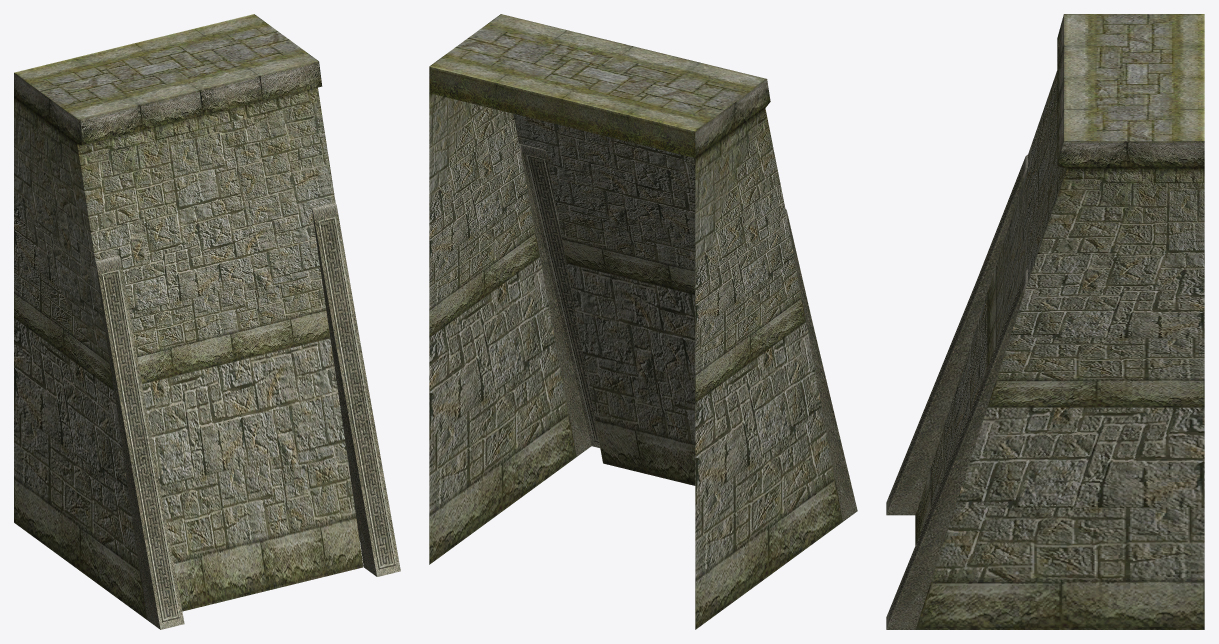
File: secret_bigwall_01.fbx
The picture shows the model from 3 angles, left to right: view 1: azimuth 30°, elevation 25°; view 2: azimuth 150°, elevation 25°; view 3: azimuth 270°, elevation 25°; orthographic projection. The views are drawn at different scales.
Parts seen in each view (by area): view 1: secret_bigwall_01; view 2: secret_bigwall_01; view 3: secret_bigwall_01.
Part boxes in pixels (bbox=[...]): secret_bigwall_01: bbox=[14, 14, 400, 629]; secret_bigwall_01: bbox=[429, 14, 857, 629]; secret_bigwall_01: bbox=[886, 14, 1204, 629].
Size of the model in its own units: 10 by 17.9 by 10.57.
